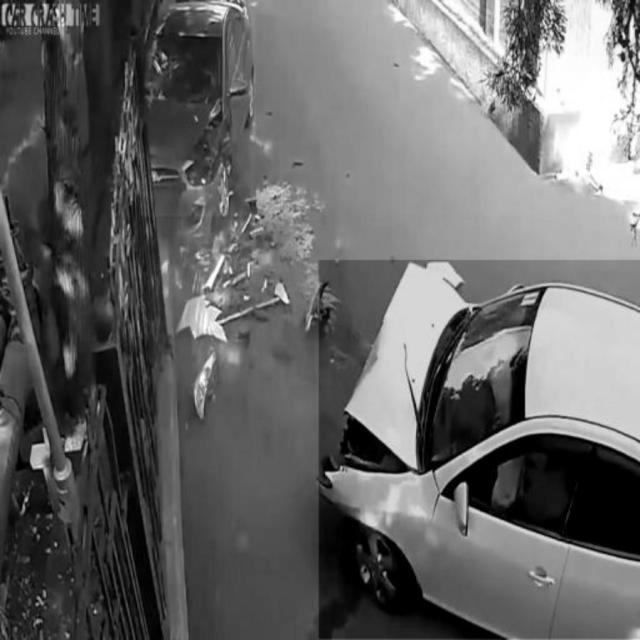vehicle: (319, 260, 639, 638), (145, 0, 255, 216)
